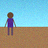person: (5, 12, 16, 35)
